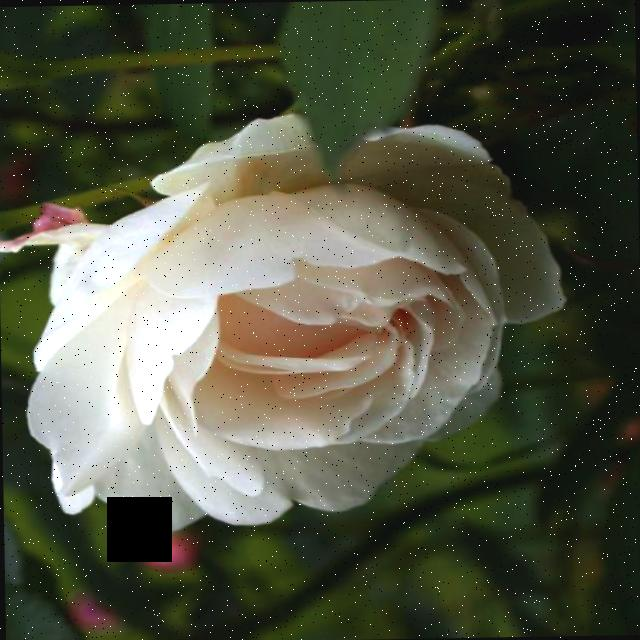rose: (0, 68, 592, 576)
